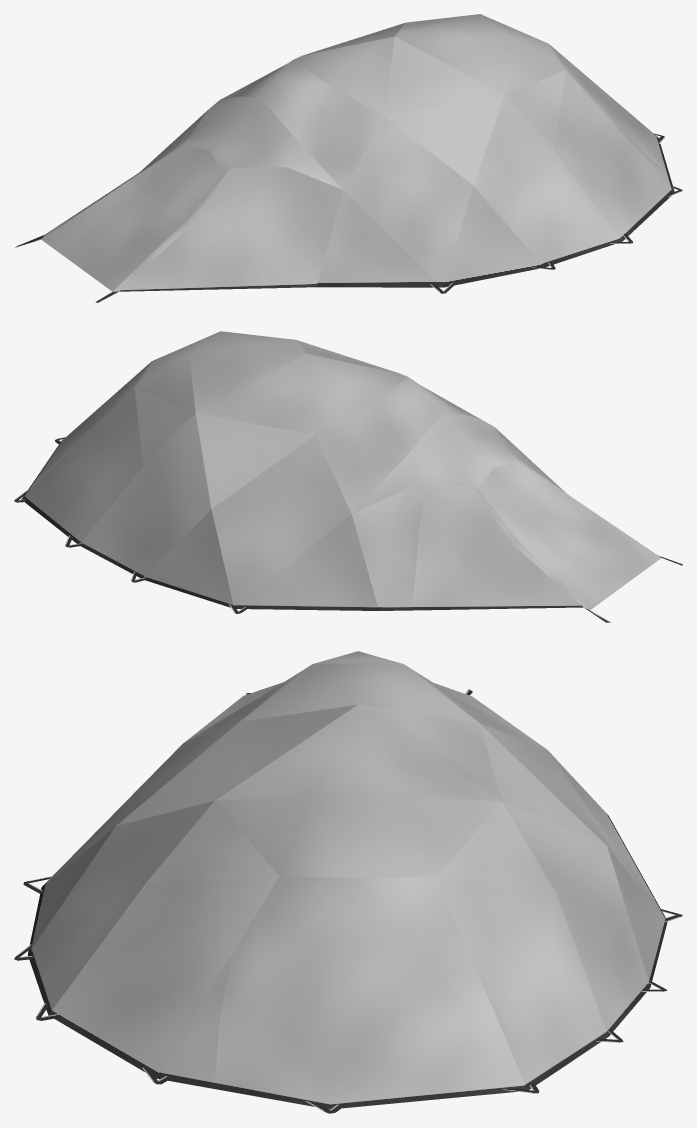
File: Tent_B_GEO.fbx
3 renders of one model, top to bottom at view 1: azimuth 30°, elevation 25°; view 2: azimuth 150°, elevation 25°; view 3: azimuth 270°, elevation 25°, orthographic. The views are drawn at different scales.
Parts seen in each view (by area): view 1: TentMesh_02; view 2: TentMesh_02; view 3: TentMesh_02.
Part boxes in pixels (box(x1,y1,x2,y2)): TentMesh_02: box(15, 14, 682, 302); TentMesh_02: box(14, 331, 682, 622); TentMesh_02: box(14, 651, 682, 1113).
Bounding box in the file's own units: 758 × 201 × 504.
